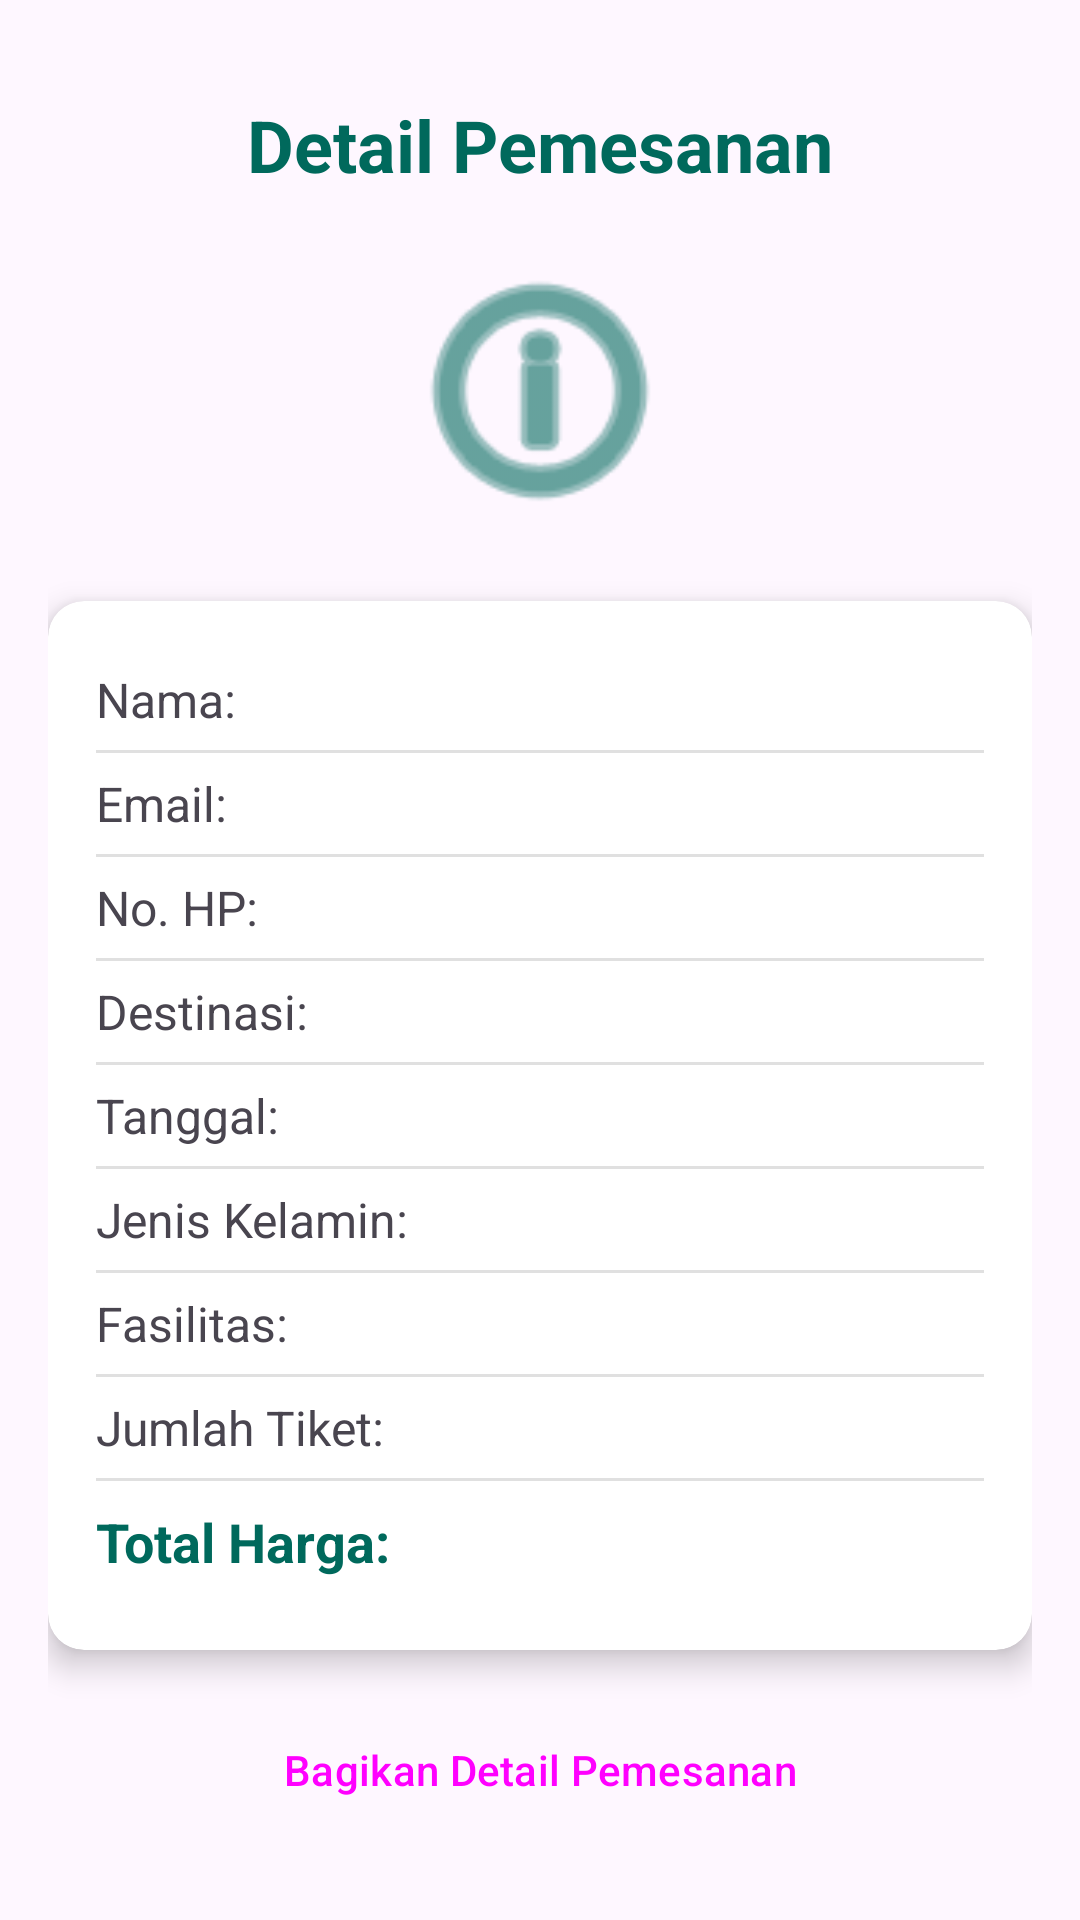

Named icons in this screenshot (1080px x 1920px) and their centers, (x,y):
info details: (540,391)
